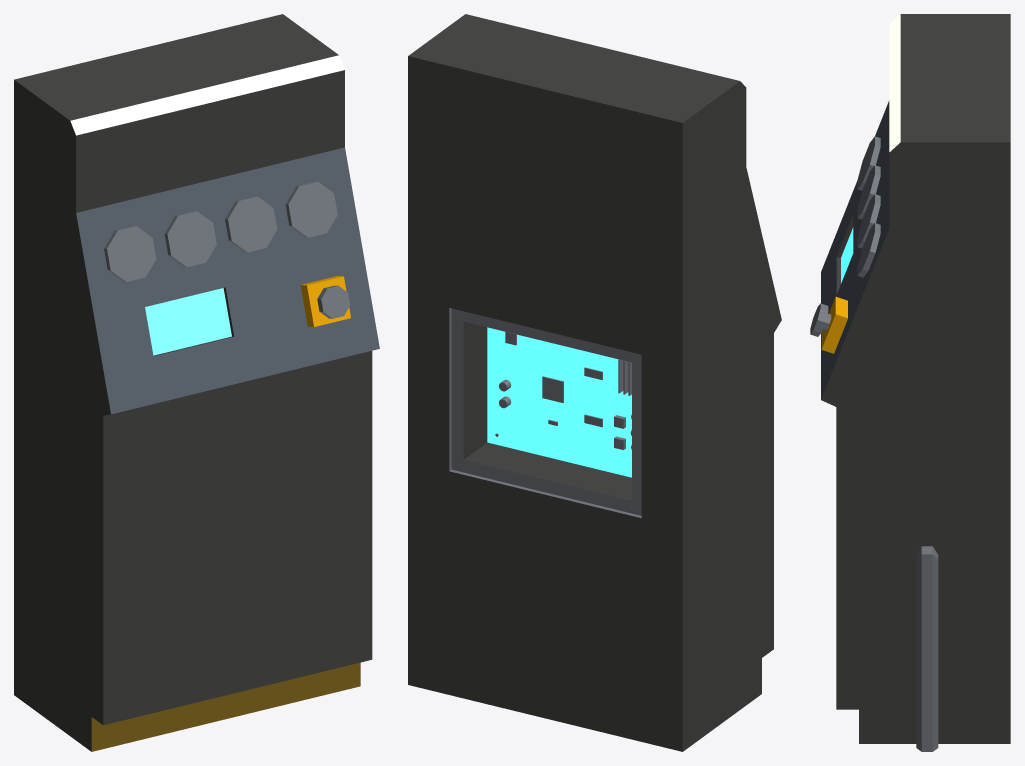
The model's file is local_panel_svc.glb.
The picture shows the model from 3 angles, left to right: view 1: azimuth 30°, elevation 25°; view 2: azimuth 150°, elevation 25°; view 3: azimuth 270°, elevation 25°; orthographic projection. The views are drawn at different scales.
Parts seen in each view (by area): view 1: local_panel_svc; view 2: local_panel_svc; view 3: local_panel_svc.
Boxes of the visible parts, x1,y1,x2,y2 form: local_panel_svc: (14,14,379,751); local_panel_svc: (408,14,781,751); local_panel_svc: (810,14,1010,751).
Size of the model in its own units: 0.85 by 1.75 by 0.5286.
